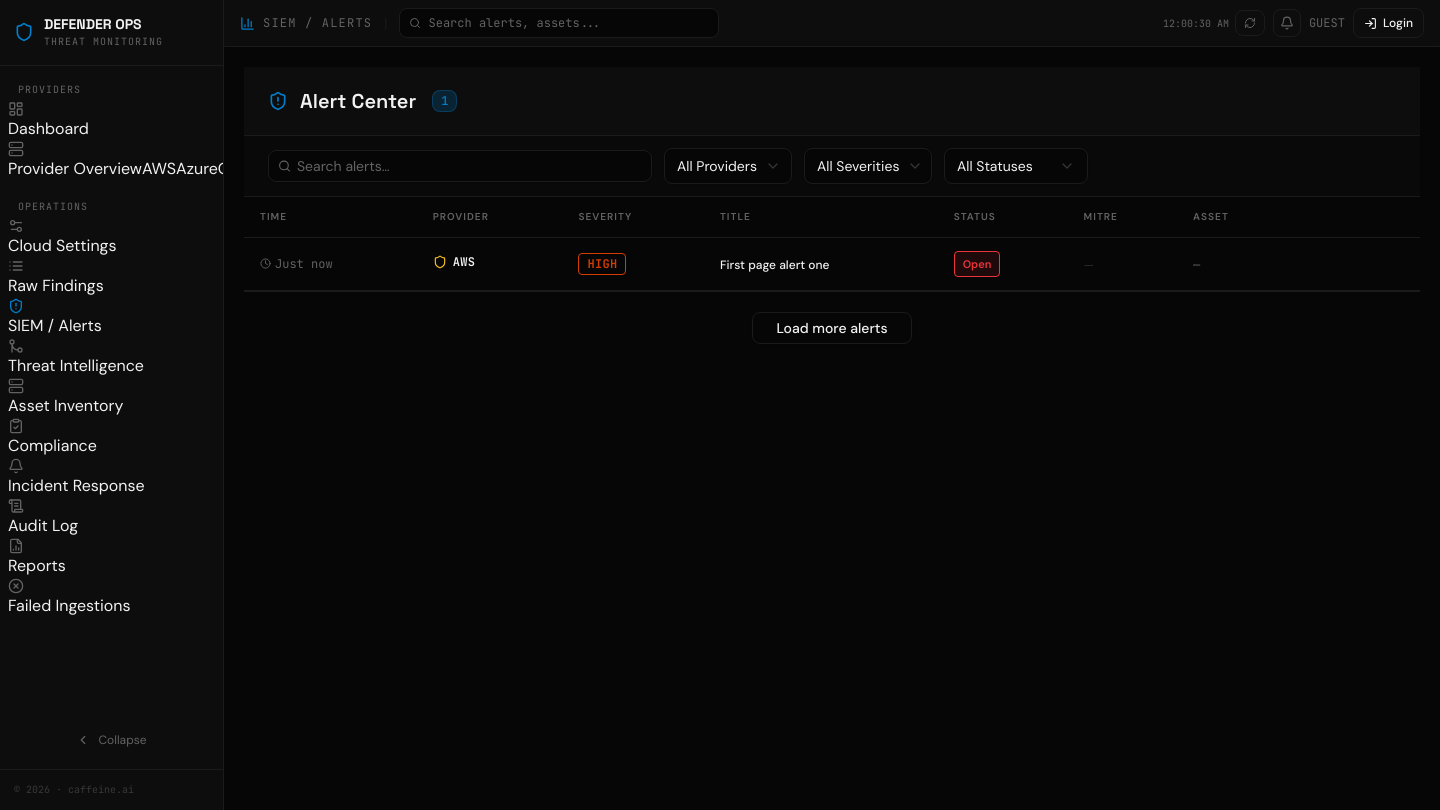
Test case: AlertsPage cursor pagination (cover) › preserves the active search filter while loading further pages
Type "page" into the field with test id "alerts.search_input" at (460, 166), box left=268, top=150, right=652, bottom=182
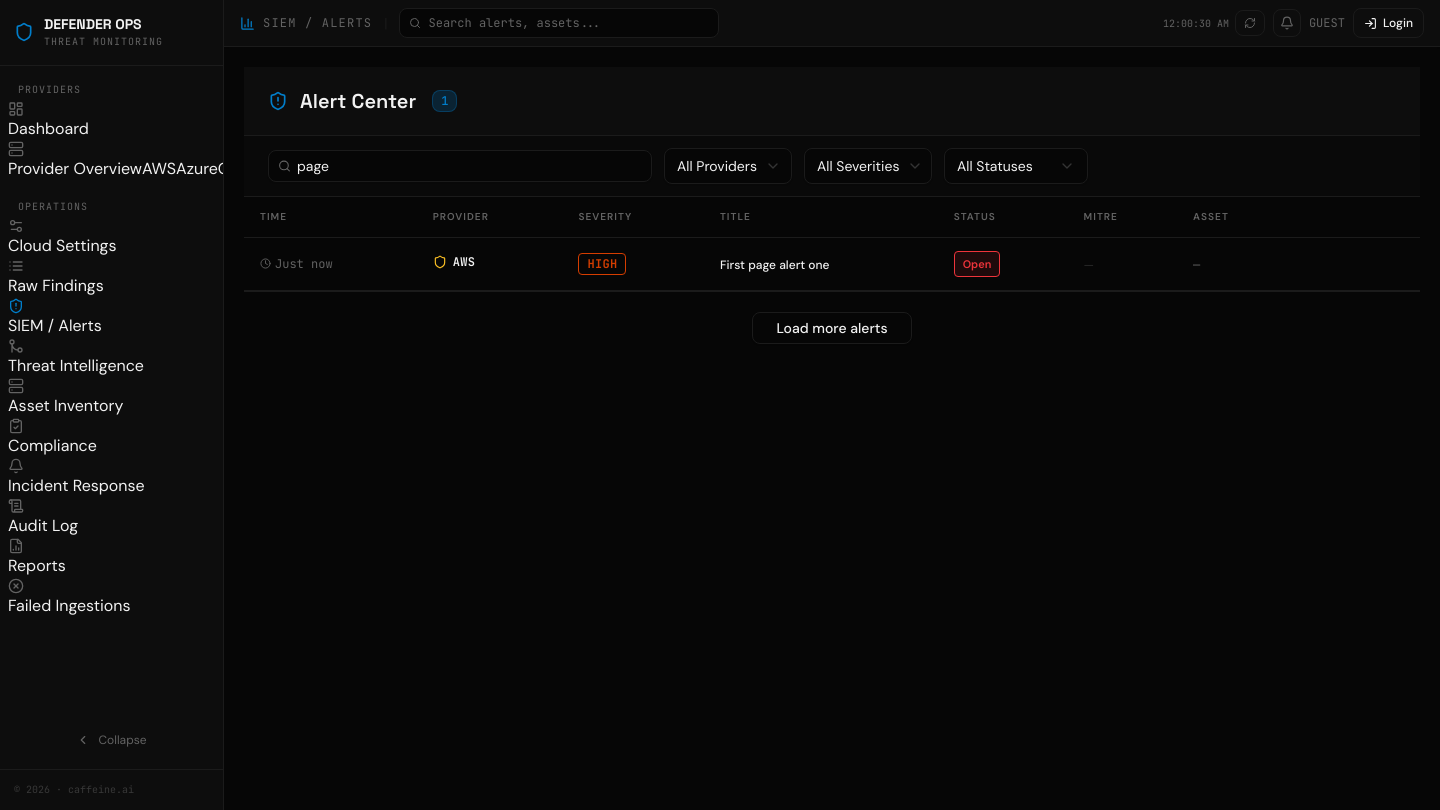
Click the button with test id "alerts.load_more_button" at (832, 328), box left=752, top=312, right=912, bottom=344
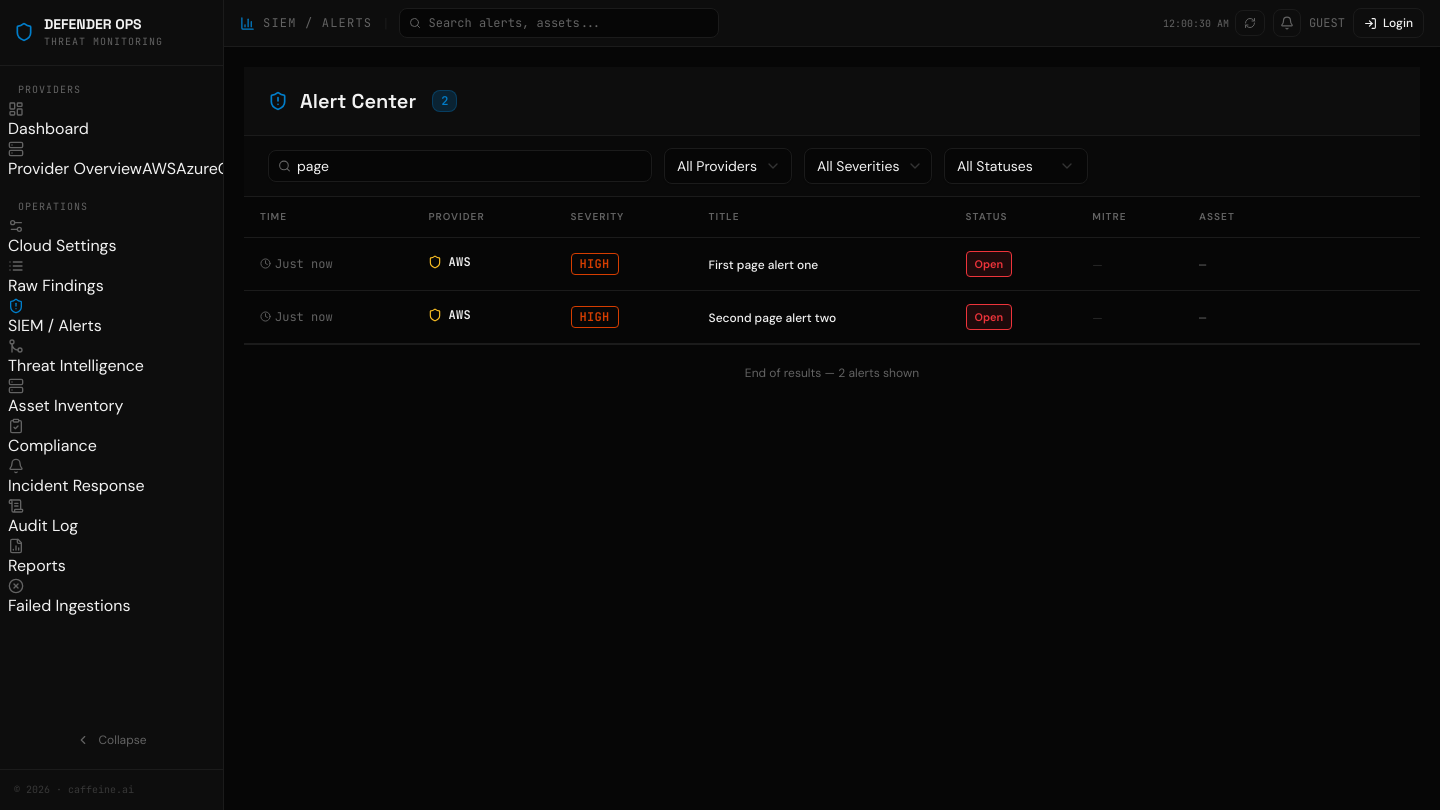
Expected: the text "First page alert one" is shown, left=709, top=257, right=818, bottom=273
Expected: the text "Second page alert two" is shown, left=709, top=310, right=836, bottom=326
Expected: the text with test id "alerts.total_badge" reads "2", left=441, top=93, right=448, bottom=109
